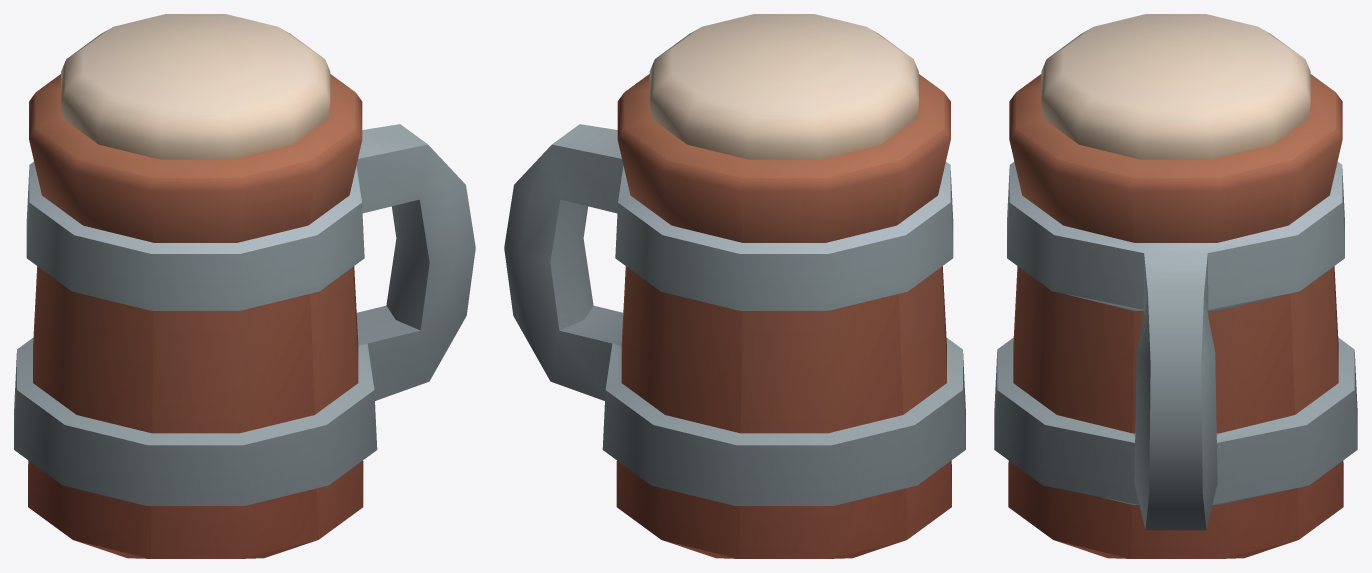
File: mug_full.glb
The picture shows the model from 3 angles, left to right: view 1: azimuth 30°, elevation 25°; view 2: azimuth 150°, elevation 25°; view 3: azimuth 270°, elevation 25°; orthographic projection.
Parts seen in each view (by area): view 1: mug_full; view 2: mug_full; view 3: mug_full.
Boxes of the visible parts, box(x1,y1,x2,y2) form: mug_full: box(14, 14, 475, 558); mug_full: box(504, 14, 965, 558); mug_full: box(994, 14, 1357, 558).
Bounding box in the file's own units: 0.5342 × 0.5484 × 0.3959.
1 material, 1 textured.
